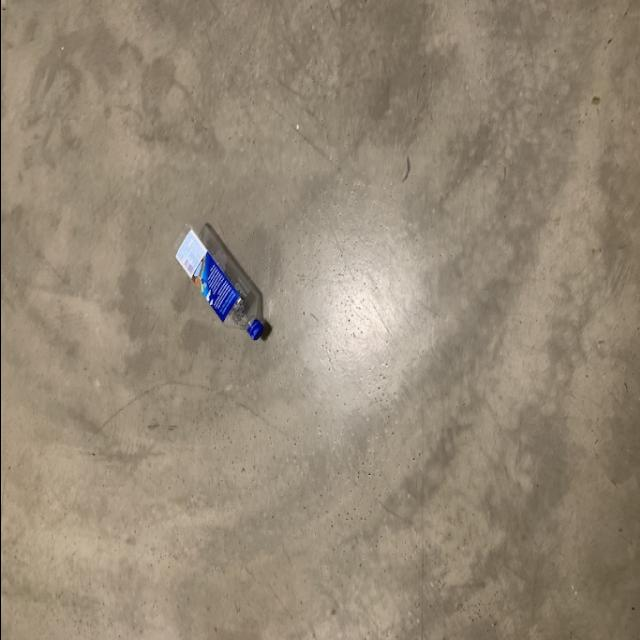PET: (164, 212, 269, 344)
